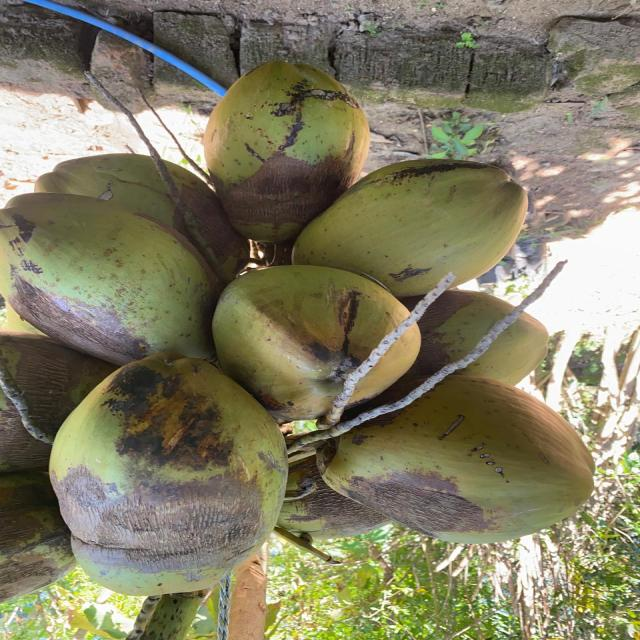coconut: (54, 357, 288, 598), (319, 376, 597, 544), (4, 186, 230, 368), (295, 162, 528, 298), (216, 270, 419, 422), (205, 65, 368, 249), (364, 289, 547, 394), (270, 447, 389, 545), (1, 468, 81, 611)
